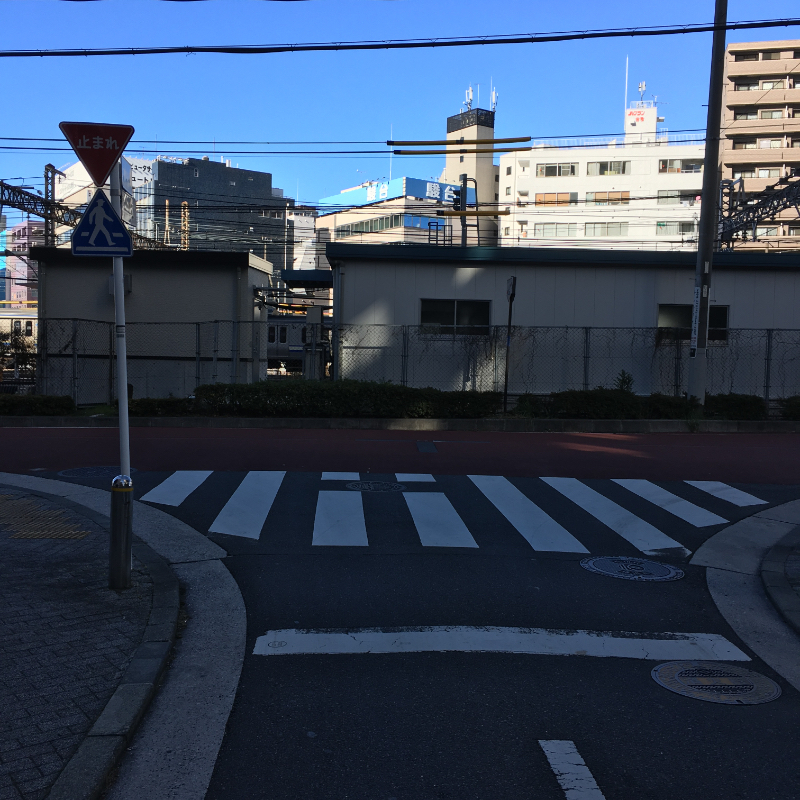STOP: (55, 117, 135, 189)
